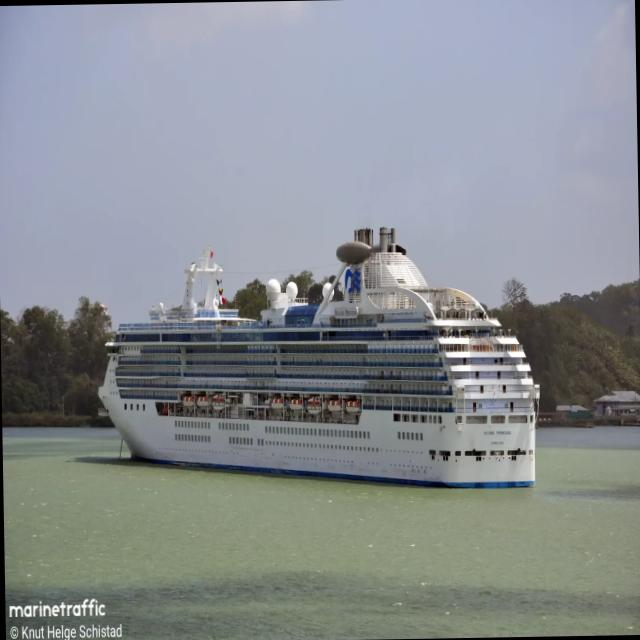Cruise: (98, 227, 539, 487)
